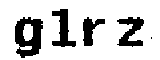1: (51, 6, 78, 51)
g: (12, 14, 44, 59)
r: (80, 15, 106, 49)
z: (117, 16, 146, 51)
